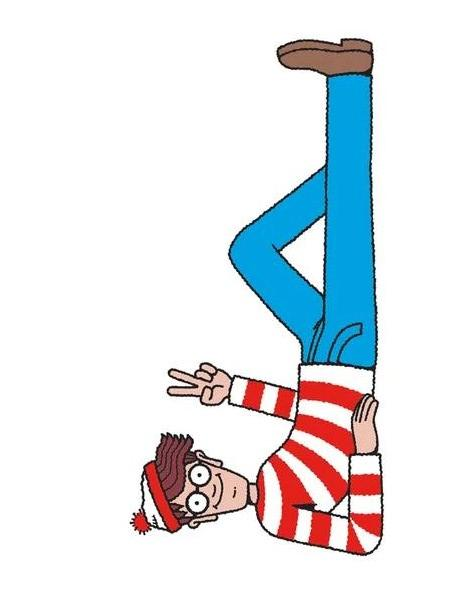waldos: (128, 34, 386, 557)
